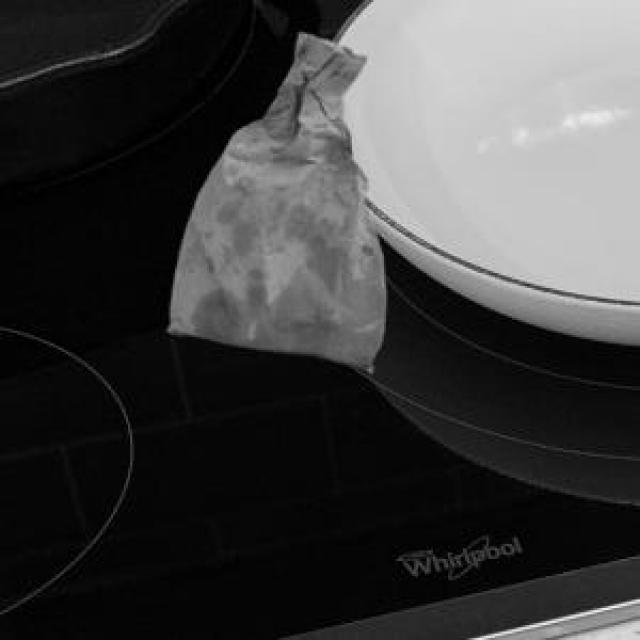paper: (164, 30, 380, 369)
